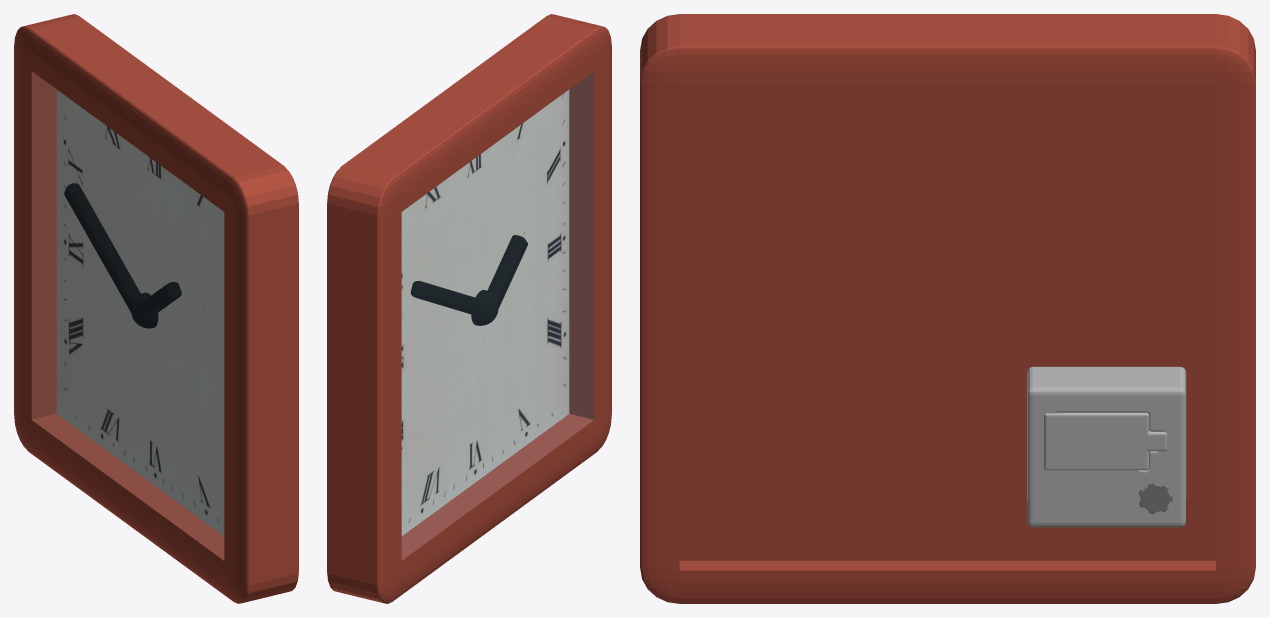
File: Horloge_square.fbx
3 renders of one model, left to right at view 1: azimuth 30°, elevation 25°; view 2: azimuth 150°, elevation 25°; view 3: azimuth 270°, elevation 25°, orthographic. The views are drawn at different scales.
Parts seen in each view (by area): view 1: Cadre, AiguilleMinute, AiguilleHeure, Sphere; view 2: Cadre, AiguilleMinute, AiguilleHeure, Sphere; view 3: Cadre, Boitier, Clapet.
Part boxes in pixels (box(x1,y1,x2,y2)): Cadre: box(14, 14, 298, 603); AiguilleMinute: box(64, 183, 140, 312); AiguilleHeure: box(137, 282, 181, 318); Sphere: box(131, 292, 158, 328); Cadre: box(327, 14, 611, 603); AiguilleMinute: box(410, 281, 492, 317); AiguilleHeure: box(487, 235, 527, 308); Sphere: box(471, 290, 498, 325); Cadre: box(640, 14, 1255, 603); Boitier: box(1027, 367, 1185, 527); Clapet: box(1044, 412, 1167, 470).
Bounding box in the file's own units: 12.18 × 62.68 × 62.68.
